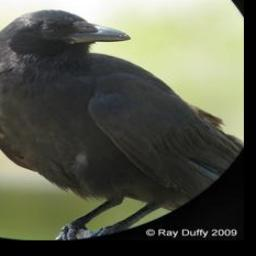Crow: (0, 8, 242, 238)
